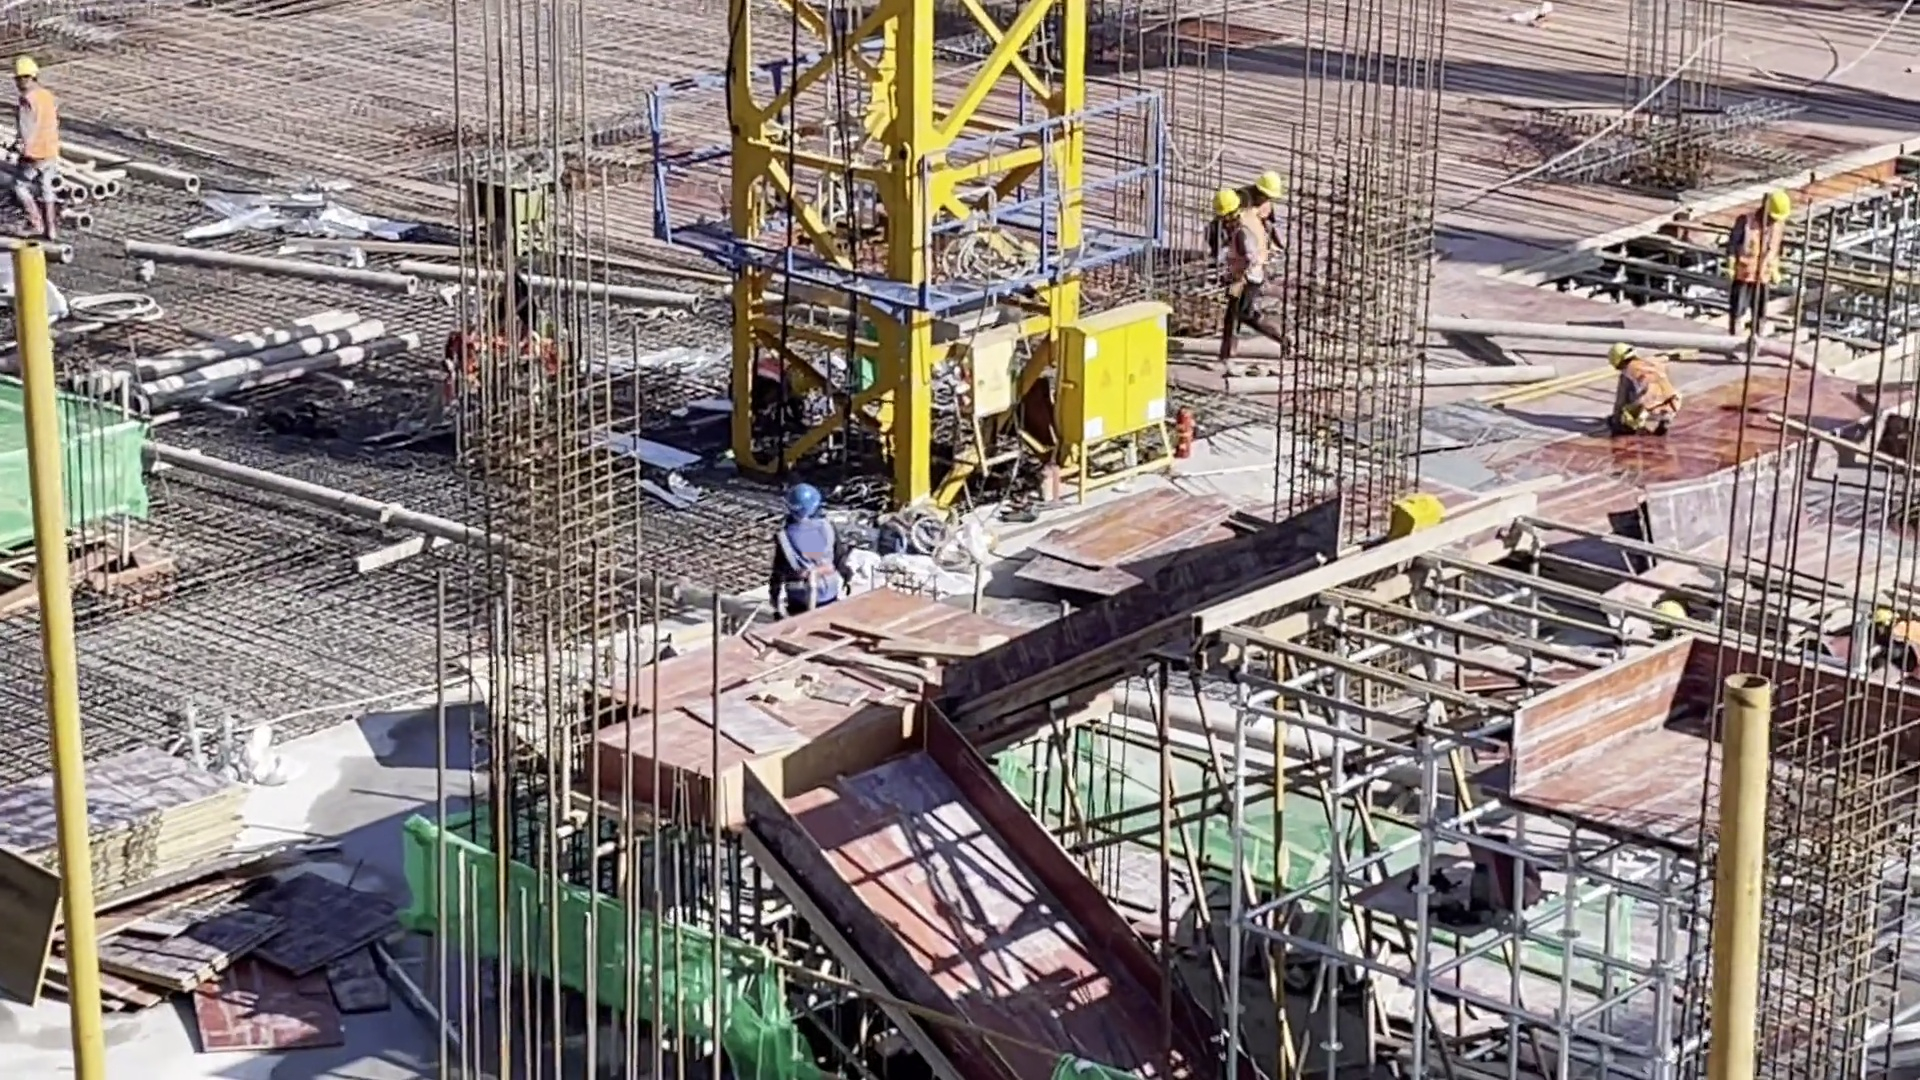helmet: (1759, 190, 1798, 227), (12, 56, 45, 92), (787, 482, 820, 520), (1213, 180, 1244, 211), (1253, 170, 1281, 204)
person: (764, 481, 851, 612), (1719, 188, 1793, 339), (1210, 182, 1274, 356), (5, 53, 60, 243), (1592, 339, 1680, 438), (1855, 598, 1920, 706)
vest: (777, 519, 836, 598), (1728, 218, 1783, 292), (14, 86, 58, 175)
